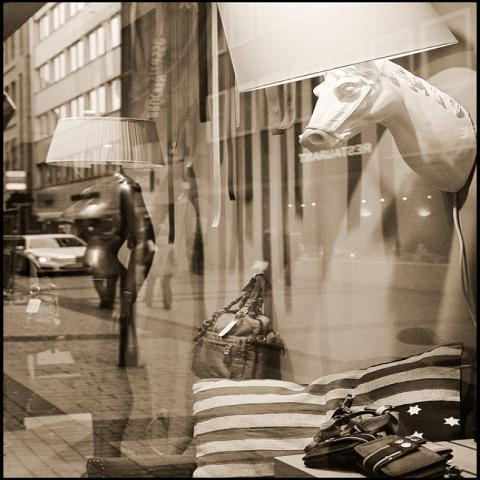car: (0, 232, 88, 280)
